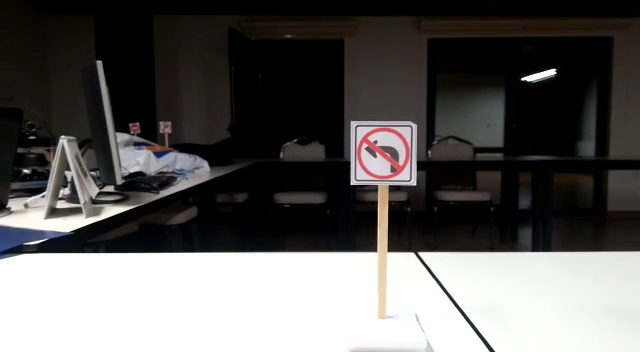sola_donulmez: (353, 123, 417, 187)
